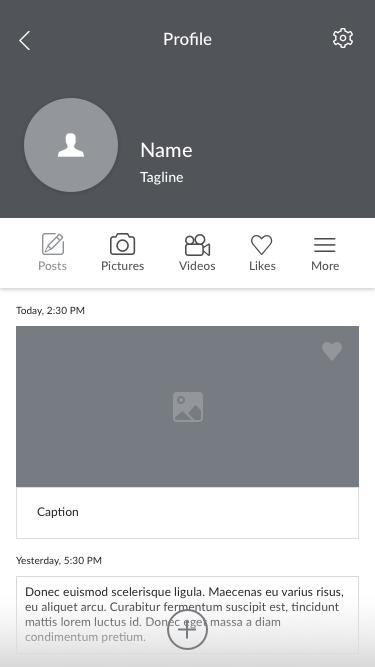Icon: (25, 99, 119, 192), (165, 608, 208, 650), (185, 234, 211, 257), (110, 234, 136, 256), (42, 233, 65, 256), (250, 233, 273, 256), (331, 29, 354, 50), (321, 341, 343, 362), (313, 237, 338, 254), (18, 31, 33, 52)
Image: (17, 326, 359, 488)
Text: (25, 587, 344, 644), (140, 142, 193, 159), (16, 556, 103, 566), (163, 32, 213, 47), (15, 306, 86, 316), (140, 171, 186, 186), (102, 260, 145, 273), (37, 507, 80, 518), (179, 260, 216, 272), (249, 260, 276, 273), (38, 261, 69, 272), (311, 261, 340, 272)
Toolbar: (1, 1, 375, 64)
